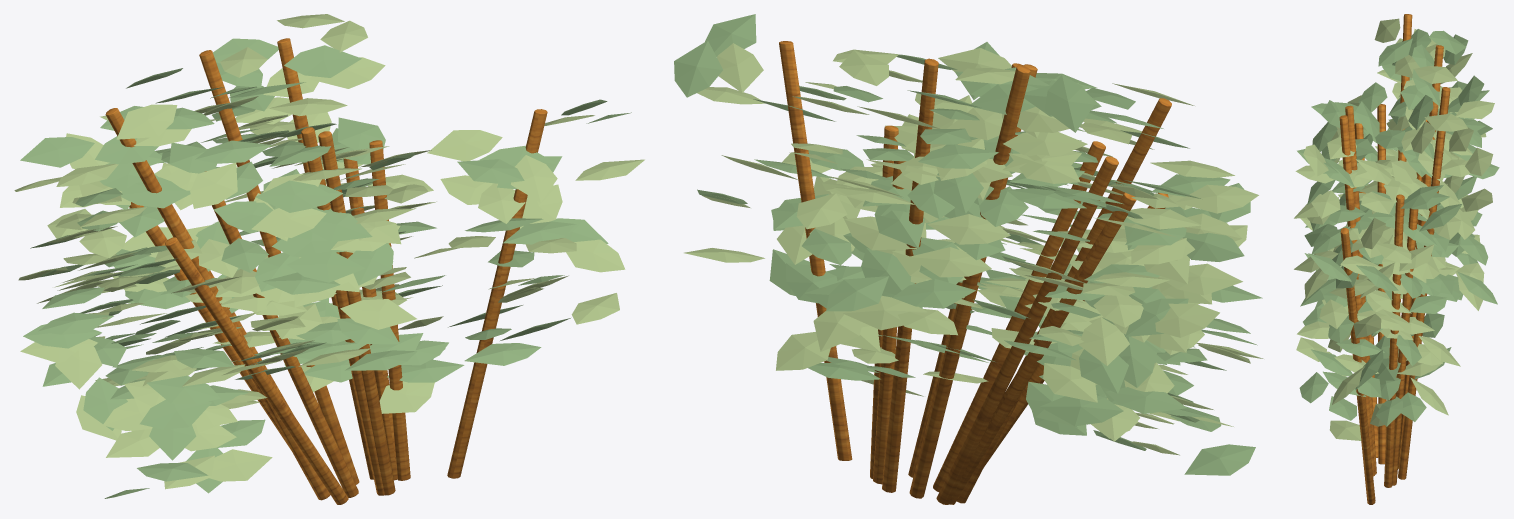
Rendered from garden-hedge.glb.
3 renders of one model, left to right at view 1: azimuth 30°, elevation 25°; view 2: azimuth 150°, elevation 25°; view 3: azimuth 270°, elevation 25°, orthographic. The views are drawn at different scales.
Parts seen in each view (by area): view 1: garden-hedge; view 2: garden-hedge; view 3: garden-hedge.
Boxes of the visible parts, x1,y1,x2,y2 form: garden-hedge: [14, 14, 644, 504]; garden-hedge: [674, 14, 1263, 504]; garden-hedge: [1294, 14, 1499, 504].
Bounding box in the file's own units: 1.5 × 1.1 × 0.55.
3 materials, 1 textured.
